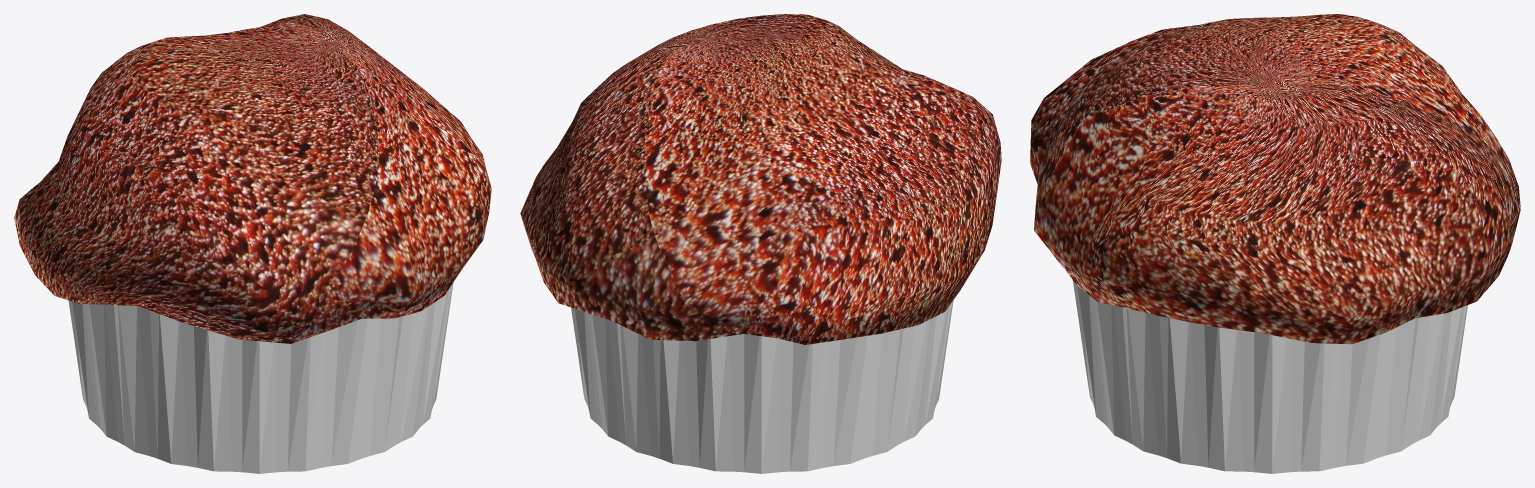
Rendered from muffini.FBX.
3 renders of one model, left to right at view 1: azimuth 30°, elevation 25°; view 2: azimuth 150°, elevation 25°; view 3: azimuth 270°, elevation 25°, orthographic. The views are drawn at different scales.
Parts seen in each view (by area): view 1: Sphere001; view 2: Sphere001; view 3: Sphere001.
Part boxes in pixels (box(x1,y1,x2,y2)): Sphere001: box(14, 14, 491, 473); Sphere001: box(520, 14, 1001, 473); Sphere001: box(1030, 14, 1520, 473).
Size of the model in its own units: 80.47 by 65.52 by 81.51.
Materials: 2 (1 with a texture image).
